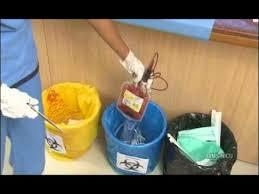Glove: (1, 84, 38, 118), (120, 51, 144, 82)
